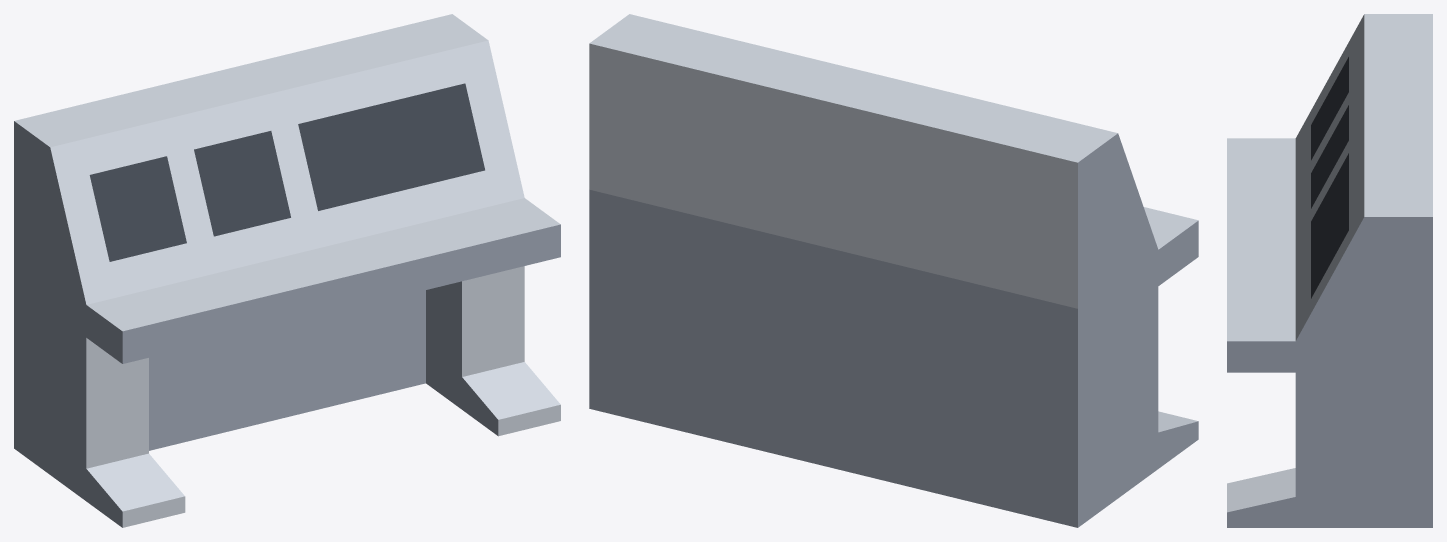
Rendered from desk_computer.dae.
3 views of the same model, side by side, from view 1: azimuth 30°, elevation 25°; view 2: azimuth 150°, elevation 25°; view 3: azimuth 270°, elevation 25° (orthographic). The views are drawn at different scales.
Parts seen in each view (by area): view 1: desk_computer; view 2: desk_computer; view 3: desk_computer.
Boxes of the visible parts, x1,y1,x2,y2 form: desk_computer: (14,14,560,527); desk_computer: (589,14,1198,527); desk_computer: (1227,14,1432,527).
Size of the model in its own units: 0.525 by 0.375 by 0.225.
